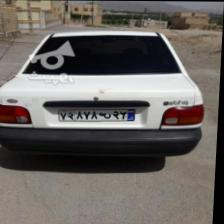plate: (61, 107, 139, 121)
